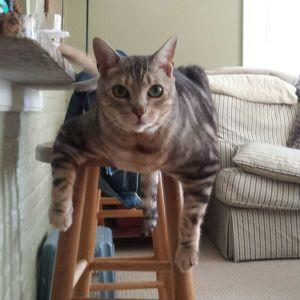bengal: (89, 27, 192, 143)
